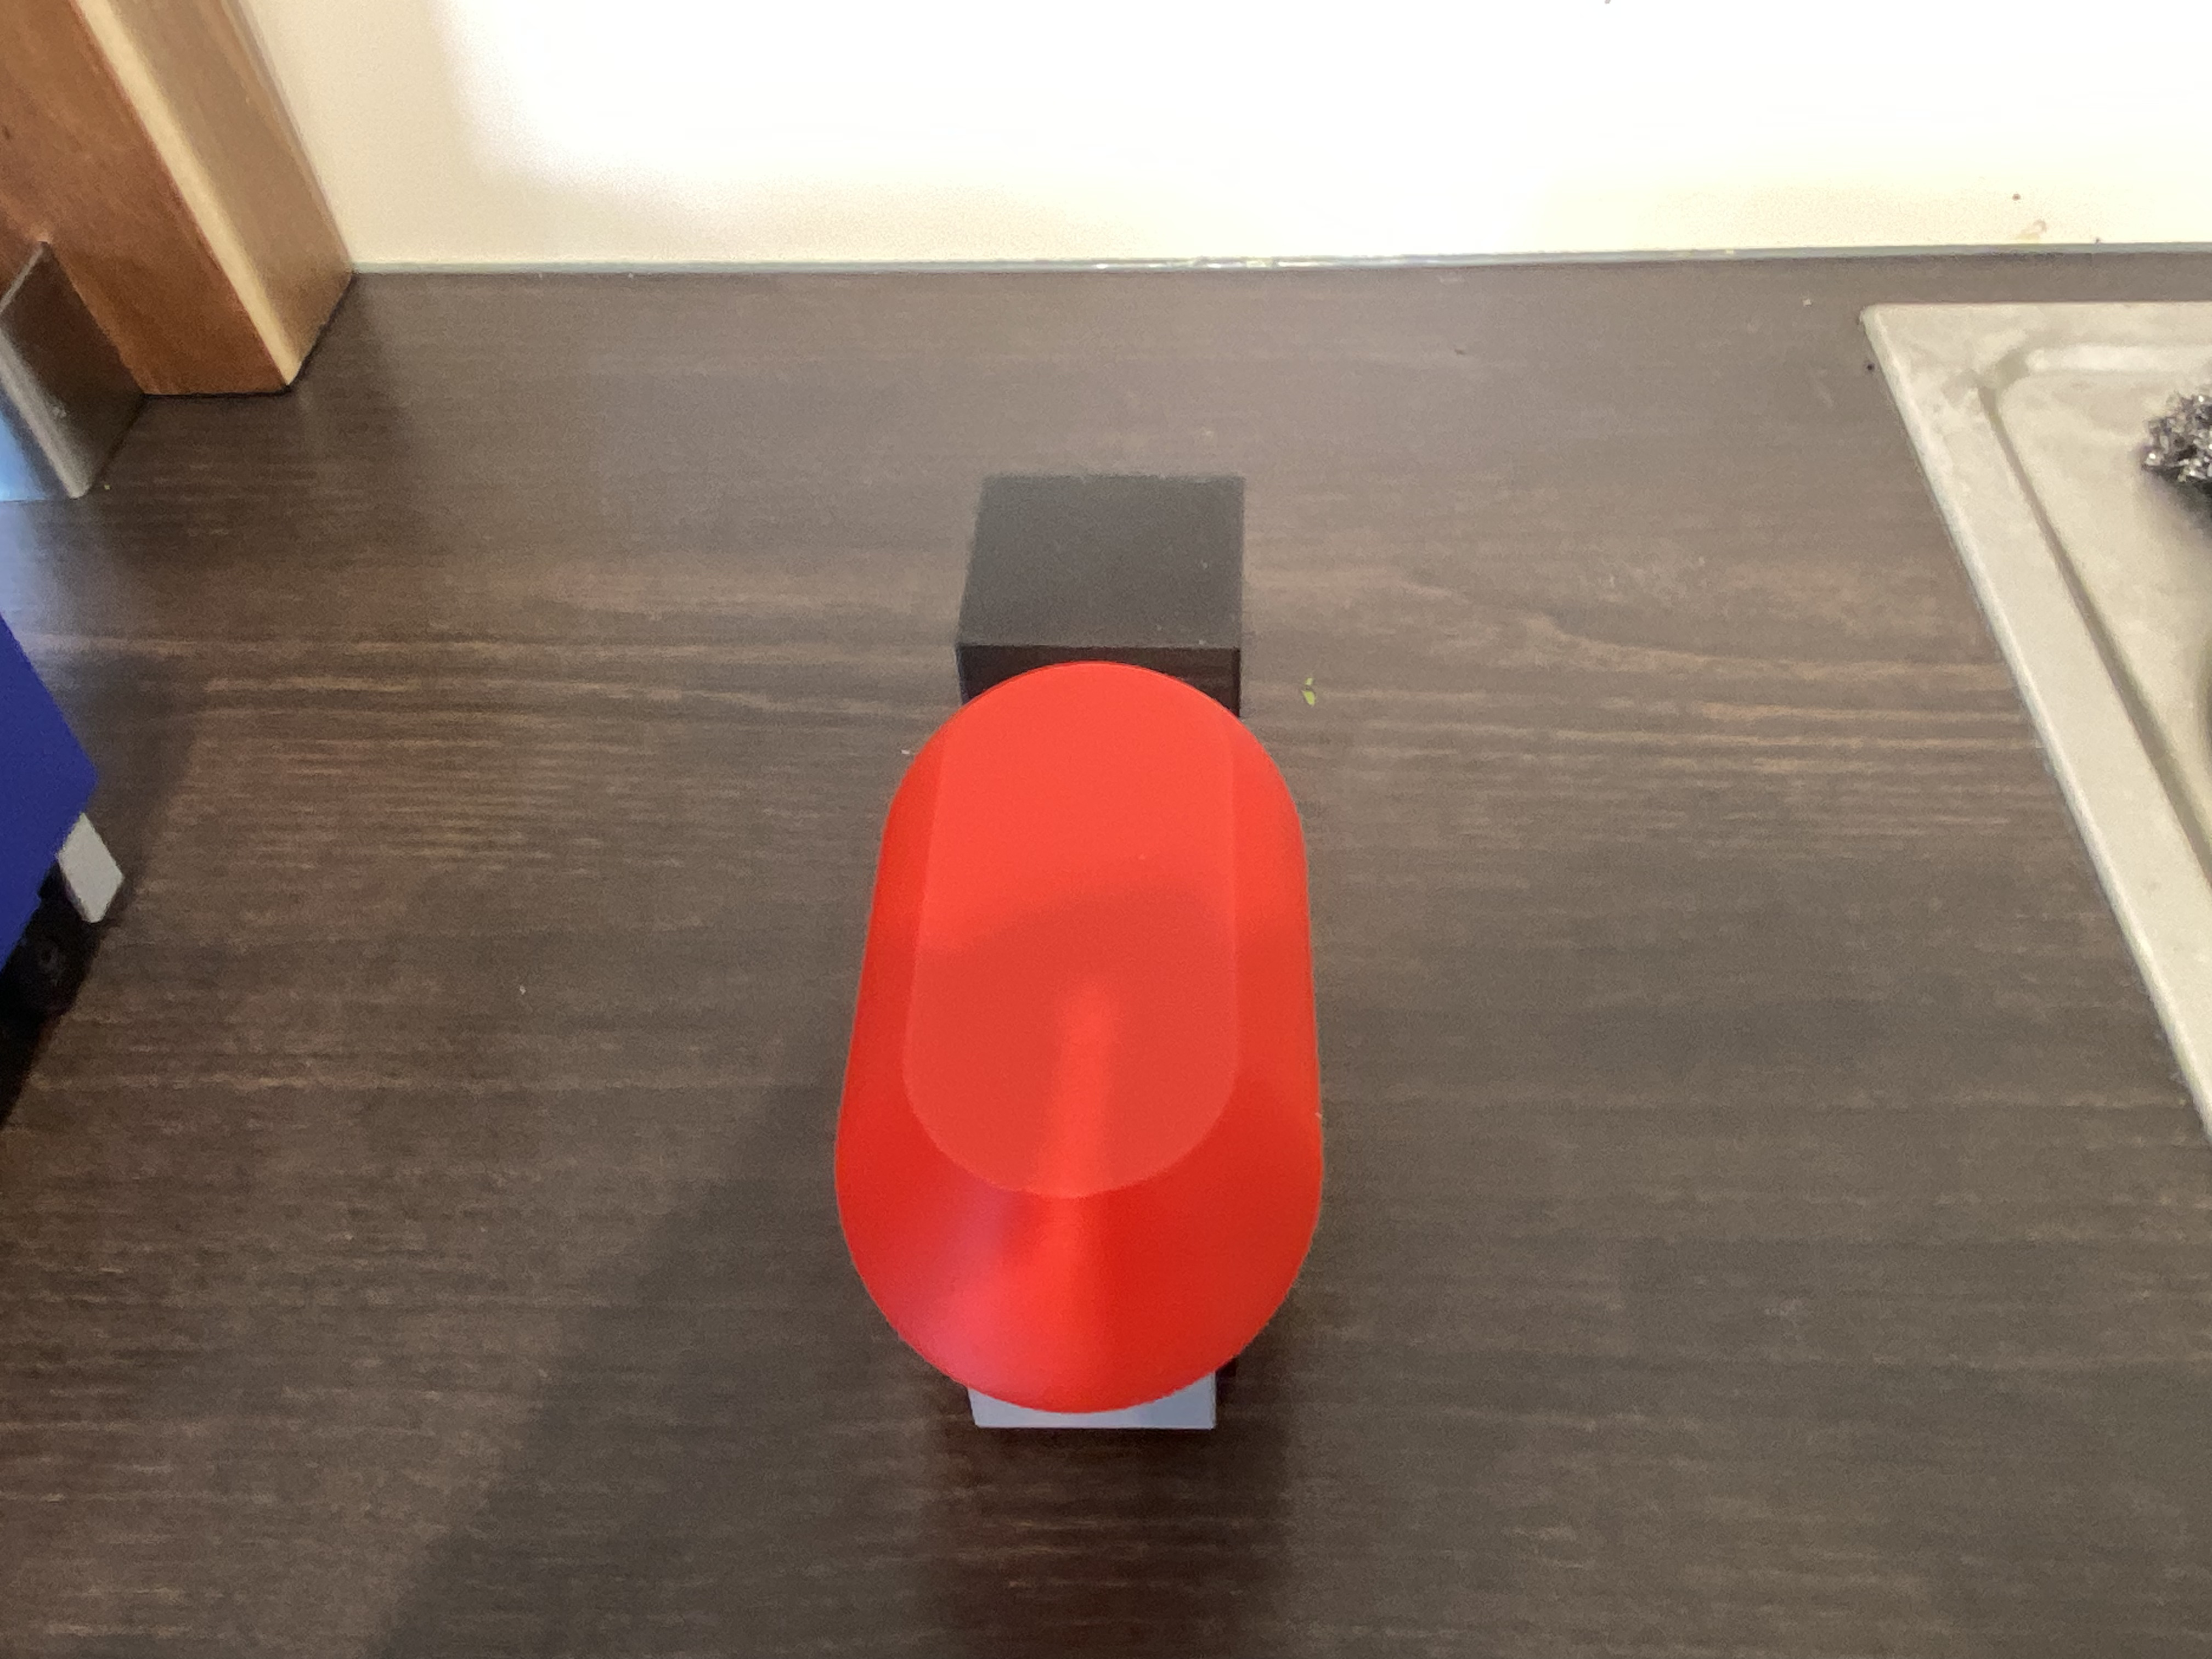red_truck: (564, 671, 1599, 1164)
